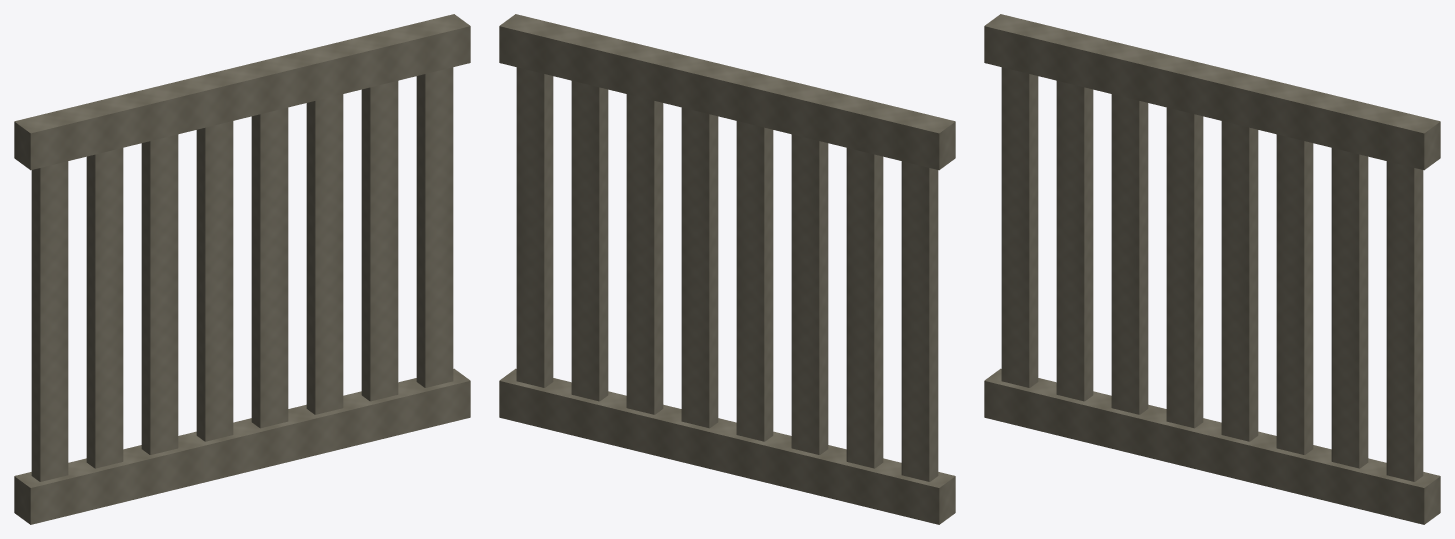
The model's file is MRP_Railing_Vertical_1m.fbx.
3 renders of one model, left to right at view 1: azimuth 30°, elevation 25°; view 2: azimuth 150°, elevation 25°; view 3: azimuth 330°, elevation 25°, orthographic.
Parts seen in each view (by area): view 1: Body; view 2: Body; view 3: Body.
Part boxes in pixels (bbox=[...]): Body: bbox=[14, 14, 470, 524]; Body: bbox=[499, 14, 955, 524]; Body: bbox=[984, 14, 1440, 524].
Size of the model in its own units: 1 by 0.85 by 0.065.
